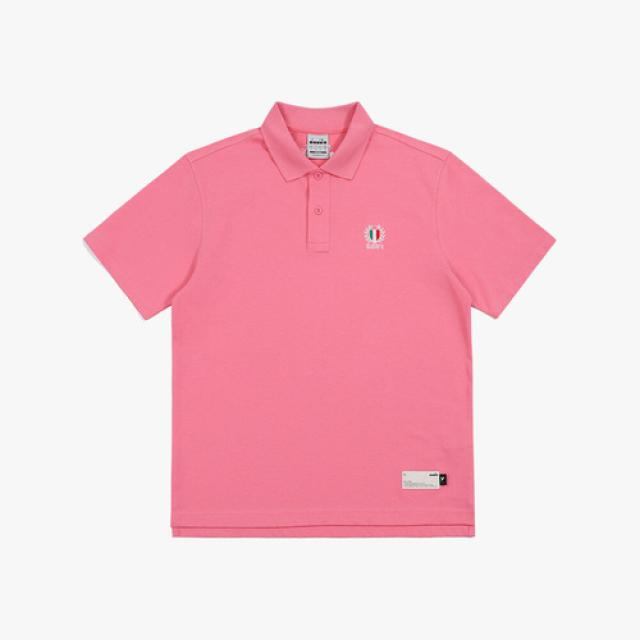Blouse_deep: (74, 93, 588, 584)
